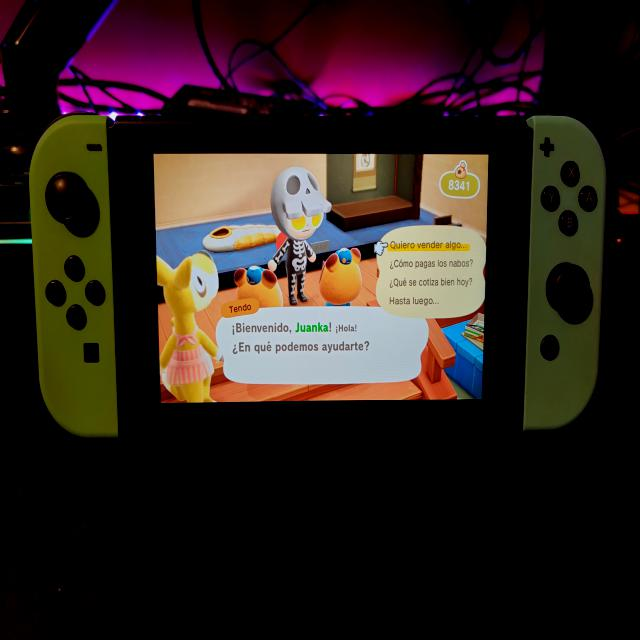text_bubble: (216, 298, 433, 389), (374, 224, 490, 322)
